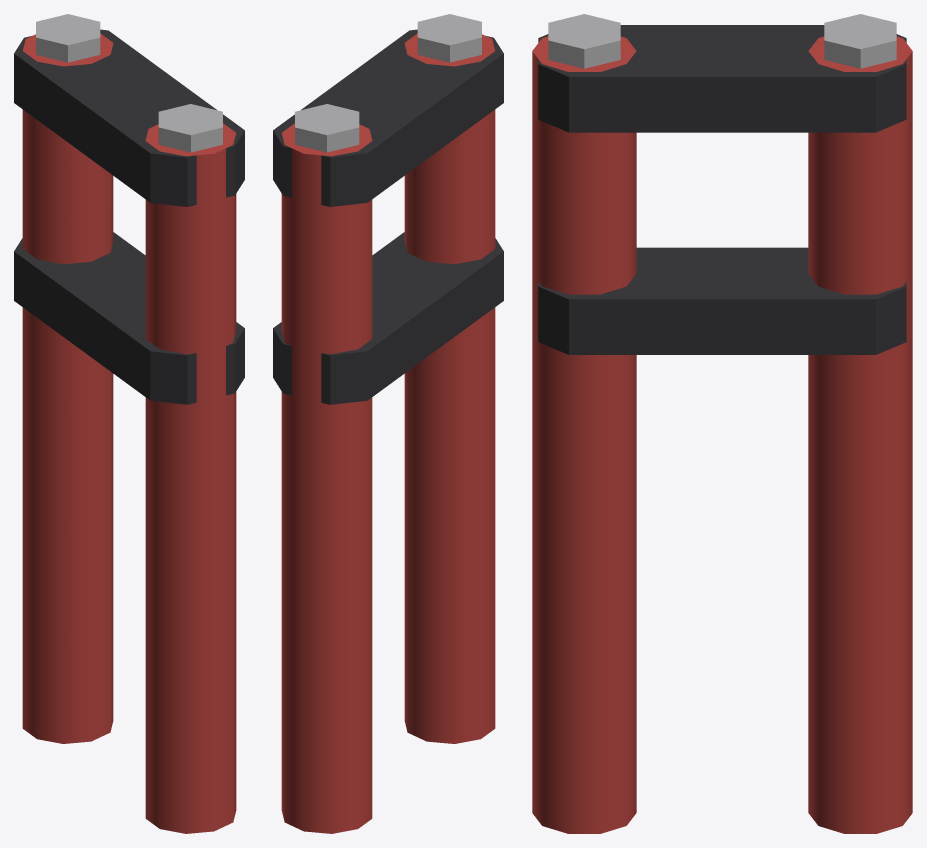
Rendered from long_travel_mx_upper_lod1.glb.
3 views of the same model, side by side, from view 1: azimuth 30°, elevation 25°; view 2: azimuth 150°, elevation 25°; view 3: azimuth 270°, elevation 25° (orthographic). The views are drawn at different scales.
Visible parts, largest first — view 1: long_travel_mx_upper_lod1; view 2: long_travel_mx_upper_lod1; view 3: long_travel_mx_upper_lod1.
Part boxes in pixels (x1,y1,x2,y2): long_travel_mx_upper_lod1: [14, 14, 244, 833]; long_travel_mx_upper_lod1: [273, 14, 503, 833]; long_travel_mx_upper_lod1: [532, 14, 912, 833].
Size of the model in its own units: 0.08 by 0.562 by 0.248.
